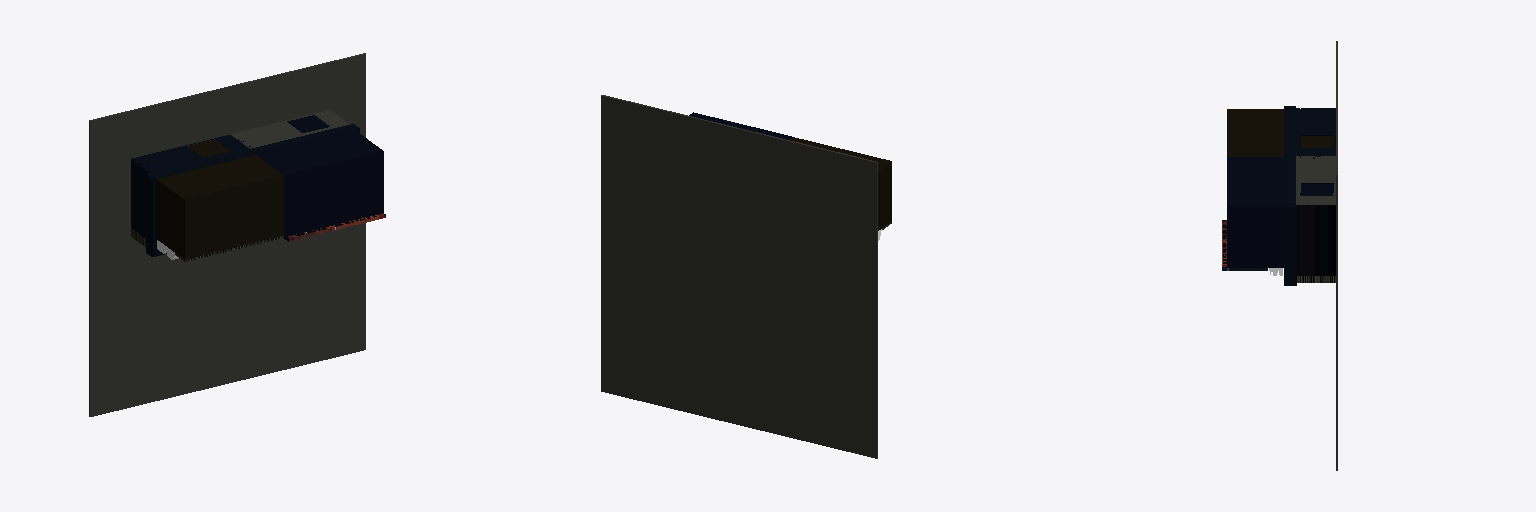
3 views of the same model, side by side, from view 1: azimuth 30°, elevation 25°; view 2: azimuth 150°, elevation 25°; view 3: azimuth 270°, elevation 25° (orthographic).
Bounding box in the file's own units: 163 × 167 × 59.28.
Materials: 10 (8 with a texture image).